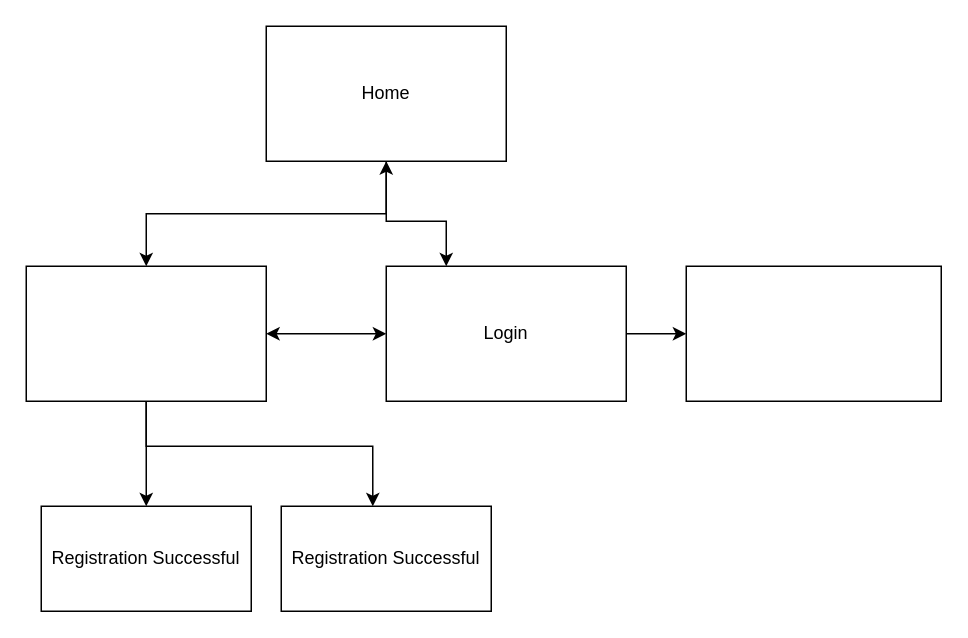
This 968x638 diagram has some shape labels left out. The shapes that lost their labels are listed below. From the top down, each one's centre as x and y in pixels, then its label:
At (145,333): "Registration".
At (813,333): "Dashboard".
